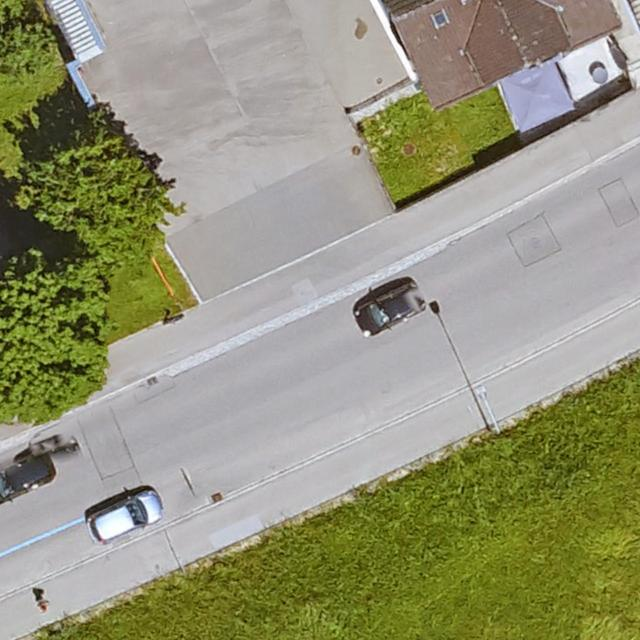tree: (10, 119, 174, 265), (0, 253, 97, 429)
